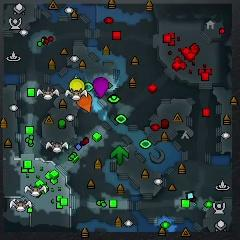p3: (94, 77, 109, 99)
p4: (69, 79, 85, 92)
p5: (76, 92, 92, 112)
x4: (111, 146, 128, 165)
